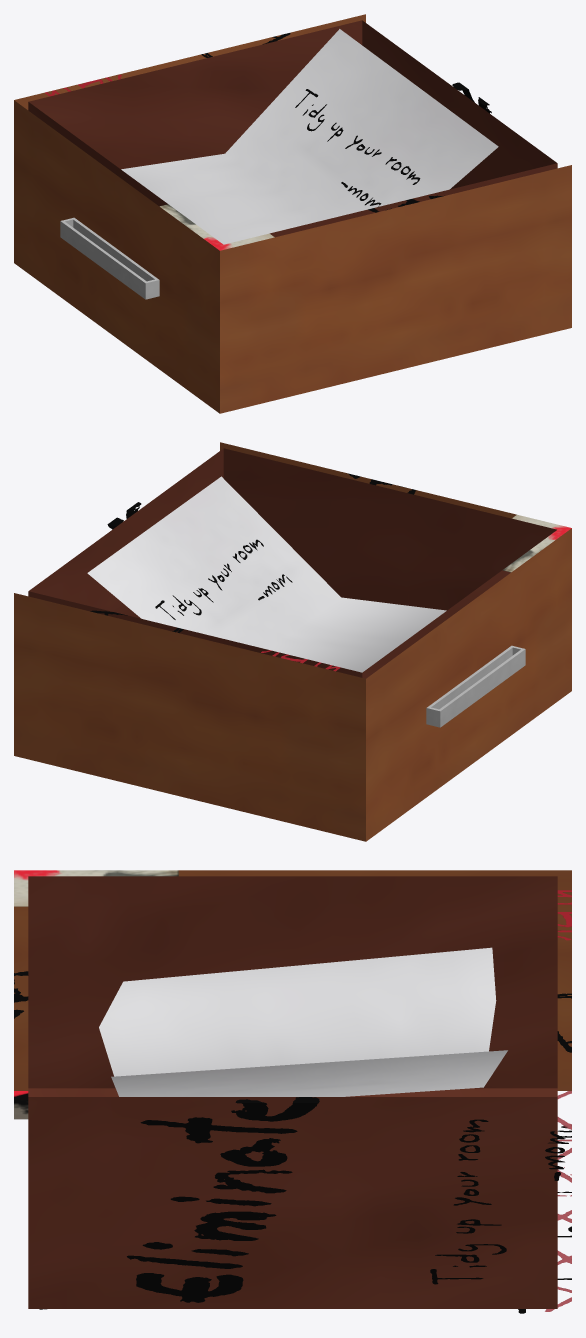
File: Cajon.fbx
3 renders of one model, top to bottom at view 1: azimuth 30°, elevation 25°; view 2: azimuth 150°, elevation 25°; view 3: azimuth 270°, elevation 25°, orthographic. The views are drawn at different scales.
Visible parts, largest first — view 1: Cajon; view 2: Cajon; view 3: Cajon.
Boxes of the visible parts, bbox=[...] form: Cajon: bbox=[14, 14, 571, 413]; Cajon: bbox=[14, 442, 571, 841]; Cajon: bbox=[14, 870, 571, 1313].
Bounding box in the file's own units: 51.28 × 24.21 × 49.97.
